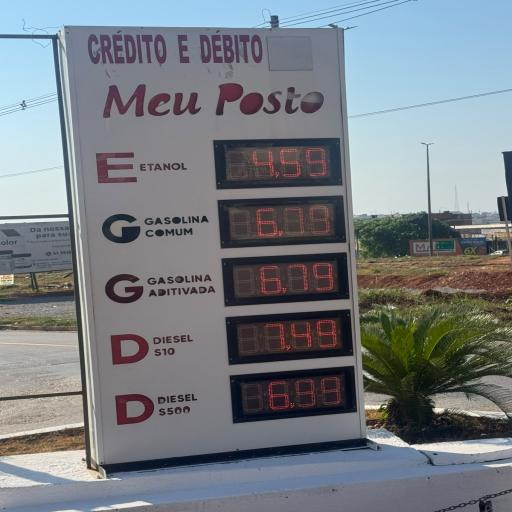ETANOL: (86, 144, 198, 190)
GASOLINA AD: (94, 264, 219, 311)
GASOLINA C: (91, 203, 213, 254)
S10: (108, 326, 215, 364)
S500: (108, 383, 216, 424)
placa: (67, 129, 367, 458)
preco: (238, 146, 330, 182), (265, 374, 347, 414), (247, 204, 333, 239), (256, 261, 341, 296), (263, 318, 344, 353)
